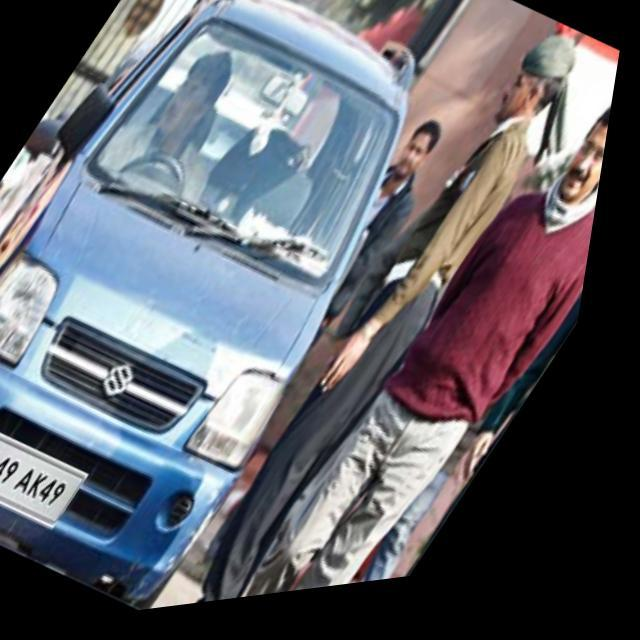license_plate: (0, 408, 114, 544)
